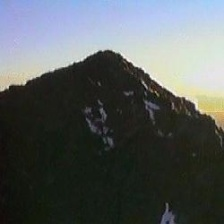neutral: (2, 16, 224, 211)
